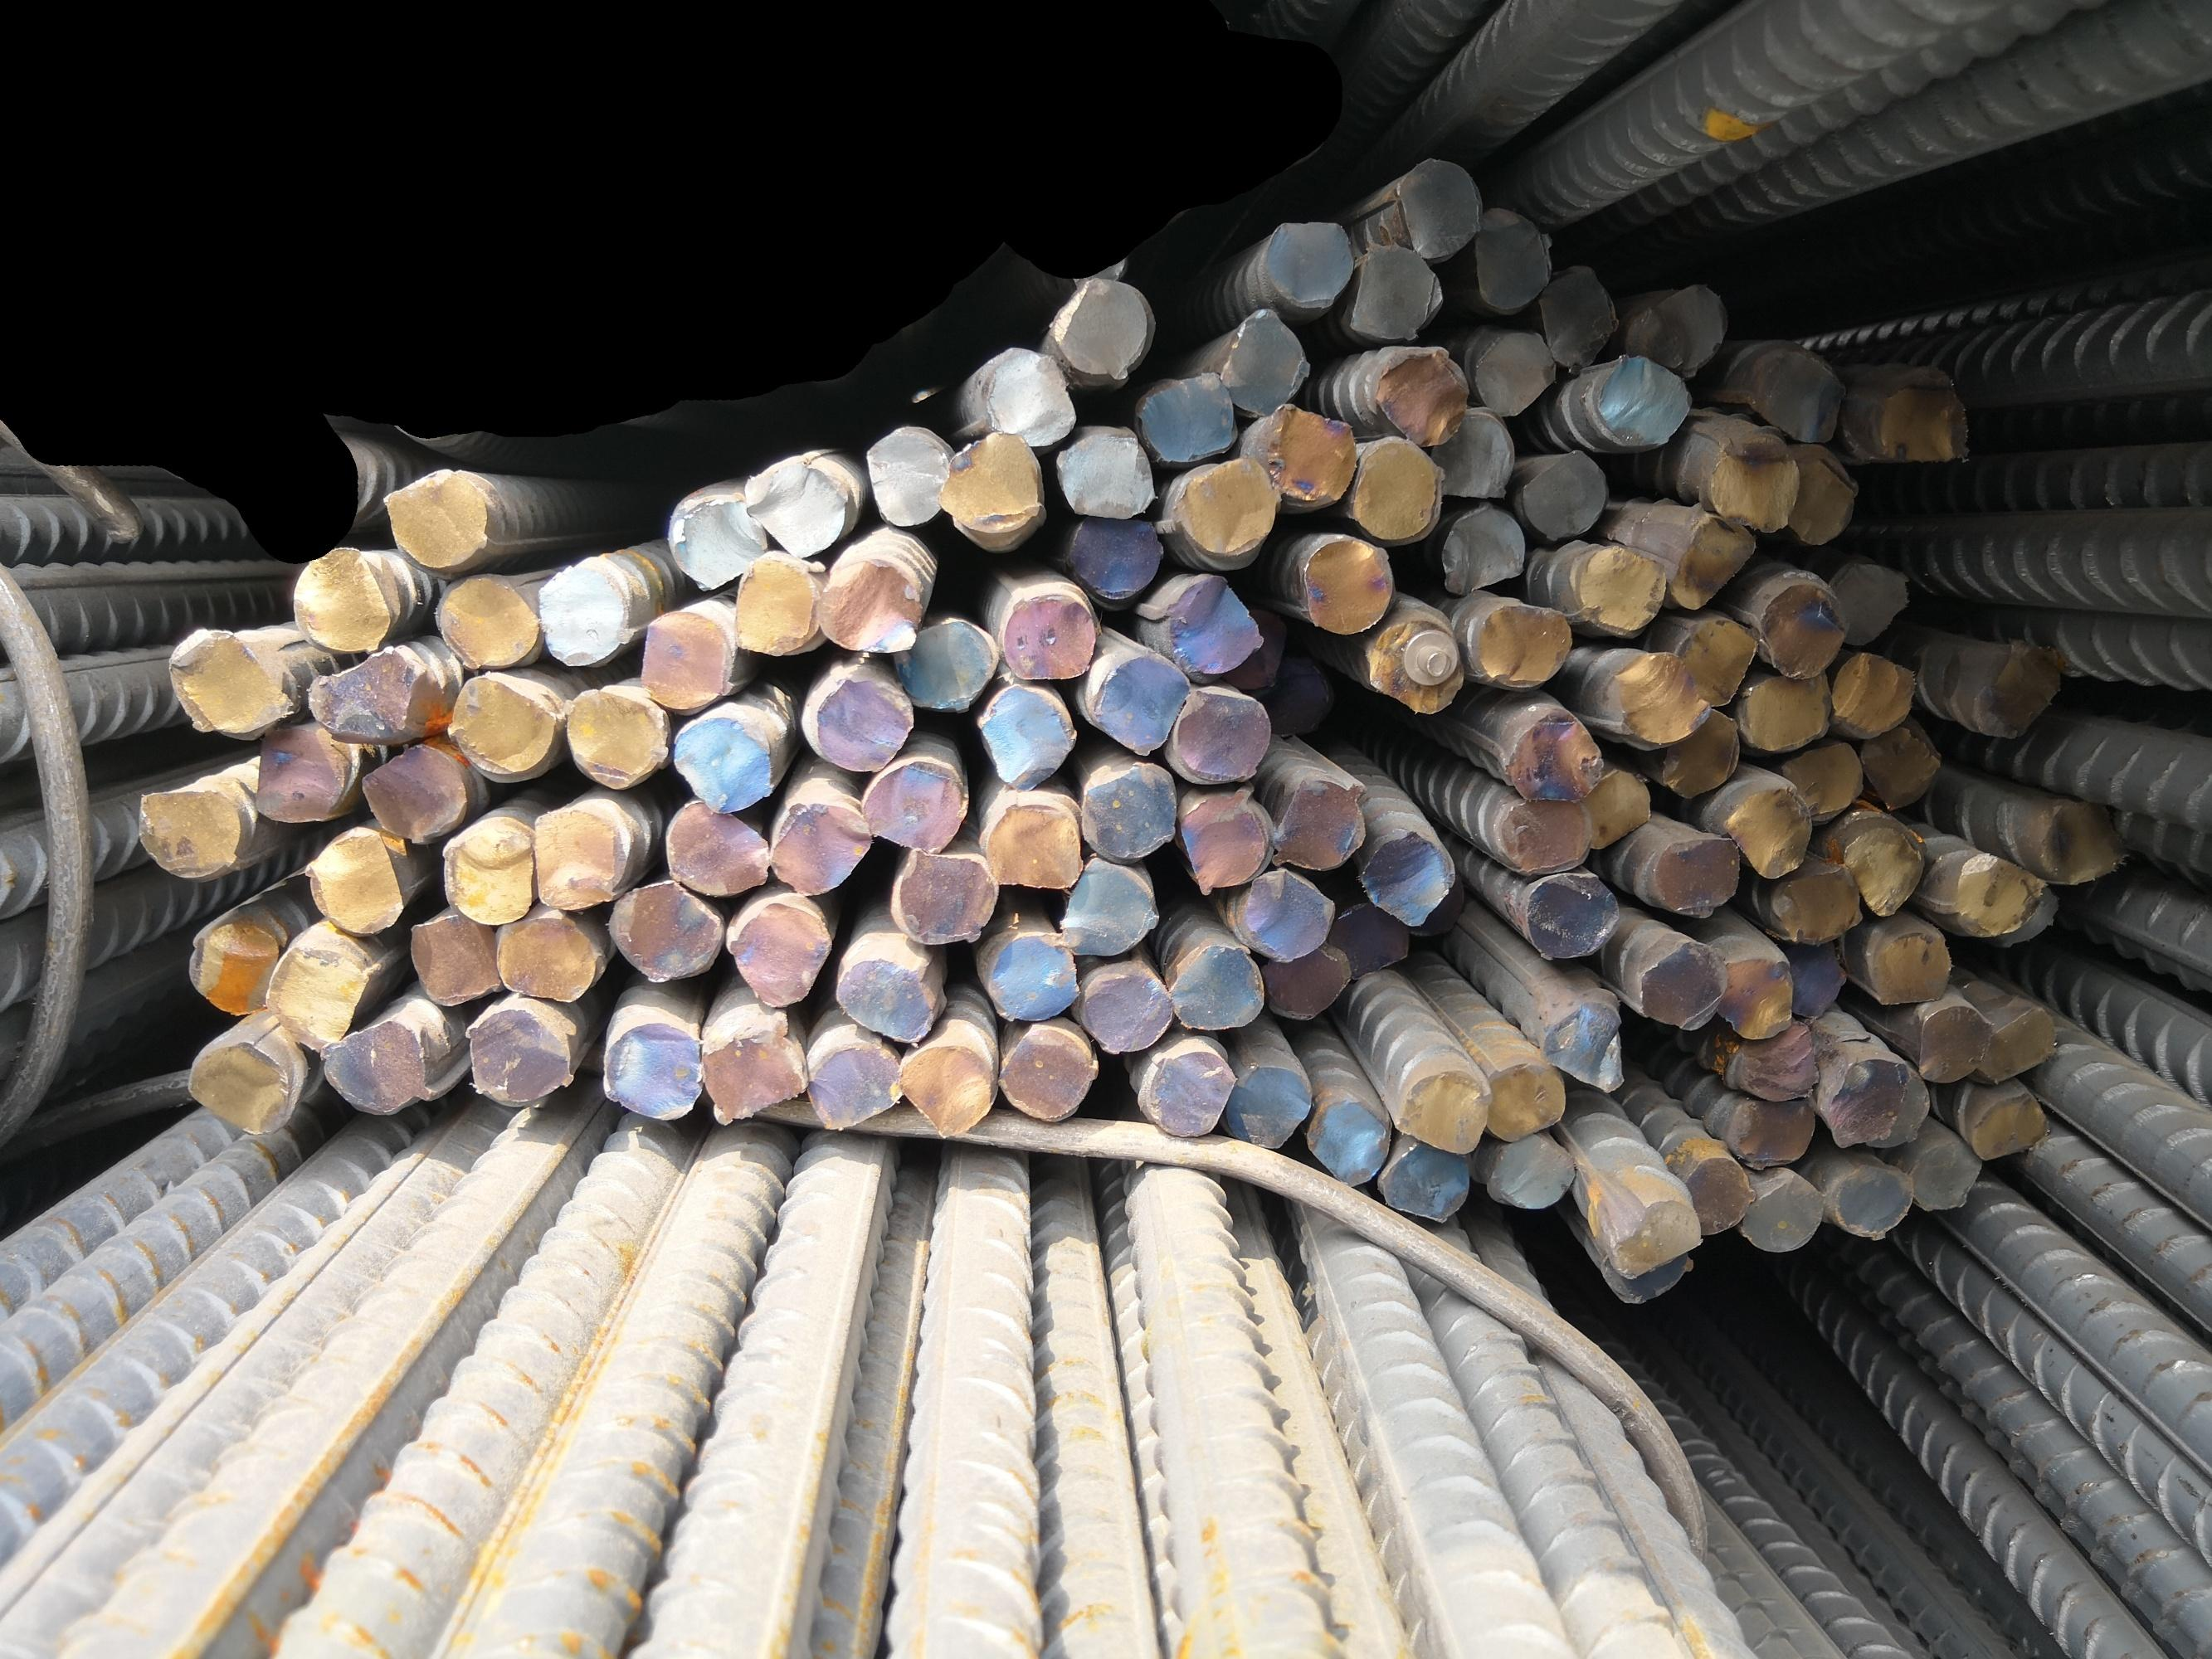bar: (162, 622, 305, 744), (451, 993, 573, 1107), (261, 932, 373, 1054), (307, 1016, 434, 1119), (295, 823, 411, 934), (444, 669, 561, 779), (286, 544, 396, 657), (607, 878, 722, 986), (1166, 458, 1283, 565), (124, 781, 249, 878), (302, 645, 427, 742), (1077, 647, 1191, 755), (852, 749, 969, 854), (373, 469, 493, 570), (812, 547, 922, 657), (723, 899, 831, 1011), (1598, 645, 1712, 751), (1041, 277, 1156, 382), (807, 669, 919, 775), (739, 451, 851, 558), (657, 791, 770, 896), (966, 343, 1075, 450), (933, 432, 1046, 535), (1694, 415, 1795, 530), (765, 796, 873, 903), (399, 903, 504, 1012), (528, 558, 633, 667), (1647, 507, 1757, 612), (180, 910, 282, 1021), (248, 721, 359, 824), (429, 568, 540, 671), (1211, 303, 1314, 415), (354, 739, 467, 840), (486, 904, 603, 1002), (1156, 570, 1262, 676), (891, 845, 999, 950), (971, 681, 1075, 789), (1262, 763, 1367, 871), (1867, 359, 1970, 469), (675, 706, 776, 817), (431, 817, 535, 924), (699, 1019, 805, 1124), (833, 941, 941, 1044), (1741, 342, 1849, 444), (601, 1012, 702, 1122), (2024, 789, 2132, 890), (995, 1019, 1098, 1124), (1339, 437, 1442, 542), (1365, 612, 1466, 718), (1752, 573, 1851, 681), (181, 1037, 293, 1133), (1227, 870, 1339, 965), (1532, 990, 1626, 1103), (1651, 701, 1754, 803), (563, 687, 668, 788), (1175, 788, 1272, 896), (1260, 399, 1358, 507), (1297, 530, 1394, 638), (1583, 354, 1691, 451), (804, 1035, 906, 1136), (1058, 857, 1161, 958), (638, 606, 737, 711), (1168, 685, 1272, 784), (1964, 636, 2064, 741), (863, 416, 952, 532), (668, 490, 767, 592), (983, 793, 1086, 892), (1079, 756, 1178, 859), (1356, 823, 1455, 925), (1051, 422, 1156, 519), (1370, 342, 1468, 446), (528, 803, 624, 910), (1501, 708, 1600, 809), (1625, 281, 1727, 378), (899, 1033, 995, 1138), (1138, 1037, 1234, 1141), (1518, 870, 1623, 965), (1131, 369, 1238, 464), (1468, 601, 1576, 694), (1598, 1188, 1708, 1279), (1532, 260, 1621, 371), (1062, 507, 1164, 603), (887, 619, 995, 709), (1370, 1127, 1468, 1227), (1391, 1058, 1490, 1155), (1666, 605, 1766, 702), (1166, 936, 1262, 1037), (1468, 202, 1553, 315), (1835, 814, 1928, 918), (727, 552, 818, 659), (1259, 214, 1354, 314), (1764, 857, 1867, 950), (1712, 1018, 1820, 1105), (1001, 582, 1095, 681), (1569, 544, 1668, 638), (1635, 931, 1726, 1033), (1346, 247, 1443, 342), (1640, 826, 1740, 918), (1722, 777, 1813, 878), (1224, 1053, 1311, 1157), (1733, 1164, 1829, 1258), (1827, 647, 1923, 741), (1945, 843, 2039, 939), (985, 927, 1077, 1025), (1299, 1089, 1388, 1190), (1734, 666, 1835, 755), (1396, 155, 1482, 260), (1708, 941, 1795, 1042), (1436, 502, 1527, 598), (1075, 967, 1175, 1054), (1670, 1143, 1754, 1246), (1517, 448, 1609, 540), (1778, 732, 1870, 824), (1496, 789, 1593, 877), (1783, 437, 1860, 547), (1428, 406, 1513, 504), (1820, 558, 1917, 643), (1860, 924, 1958, 1009), (1253, 939, 1353, 1023), (1825, 1049, 1907, 1147), (1469, 324, 1555, 416), (1482, 1058, 1569, 1147), (1724, 1089, 1818, 1171), (1855, 720, 1944, 805), (1978, 995, 2062, 1086), (1487, 1126, 1572, 1213), (1910, 999, 1994, 1086), (1321, 899, 1412, 976), (1895, 1131, 1982, 1209), (1822, 1162, 1910, 1239), (1958, 1086, 2046, 1162), (1588, 1246, 1694, 1309), (1576, 765, 1654, 847), (1259, 653, 1333, 739), (1869, 1061, 1931, 1157), (1224, 601, 1290, 690), (1989, 877, 2066, 951), (1785, 936, 1851, 1019), (1400, 870, 1468, 939)
